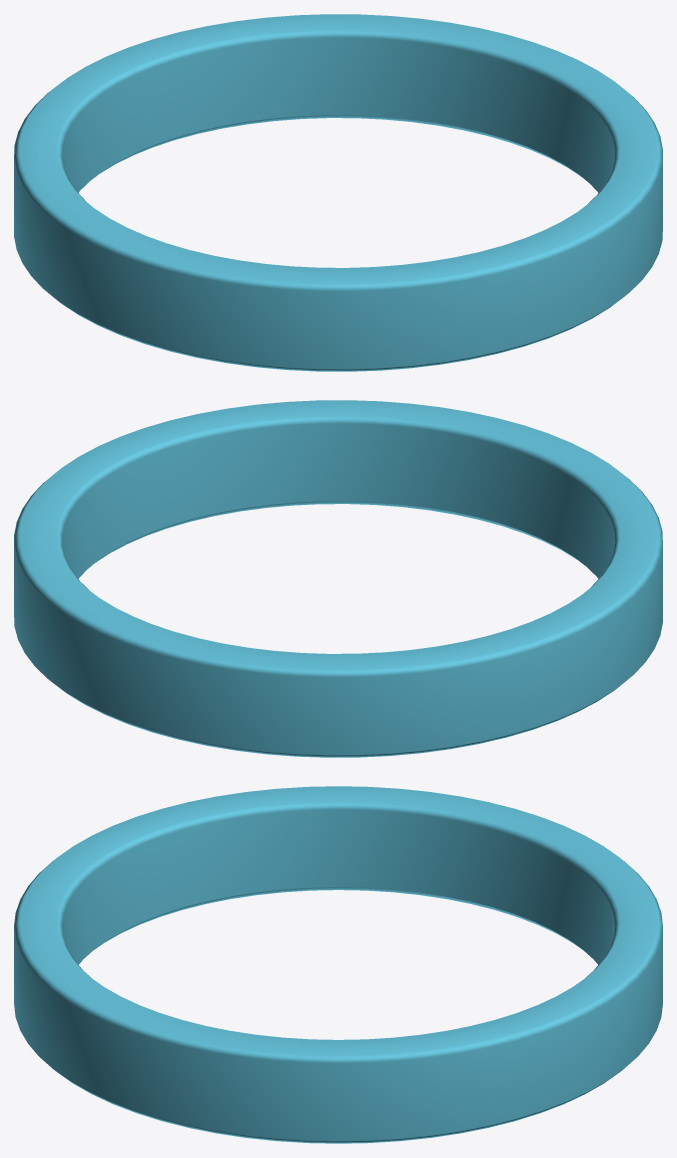
The picture shows the model from 3 angles, top to bottom: view 1: azimuth 30°, elevation 25°; view 2: azimuth 150°, elevation 25°; view 3: azimuth 270°, elevation 25°; orthographic projection.
Parts seen in each view (by area): view 1: seal_body; view 2: seal_body; view 3: seal_body.
Boxes of the visible parts, x1,y1,x2,y2 form: seal_body: (14, 14, 662, 371); seal_body: (14, 400, 662, 757); seal_body: (14, 786, 662, 1143).
Bounding box in the file's own units: 0.0635 × 0.00952 × 0.0635.
